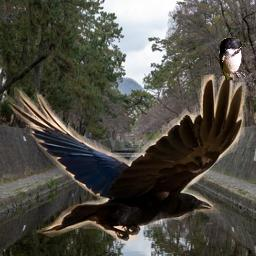Crow: (6, 73, 248, 242)
Swallow: (218, 36, 248, 80)
